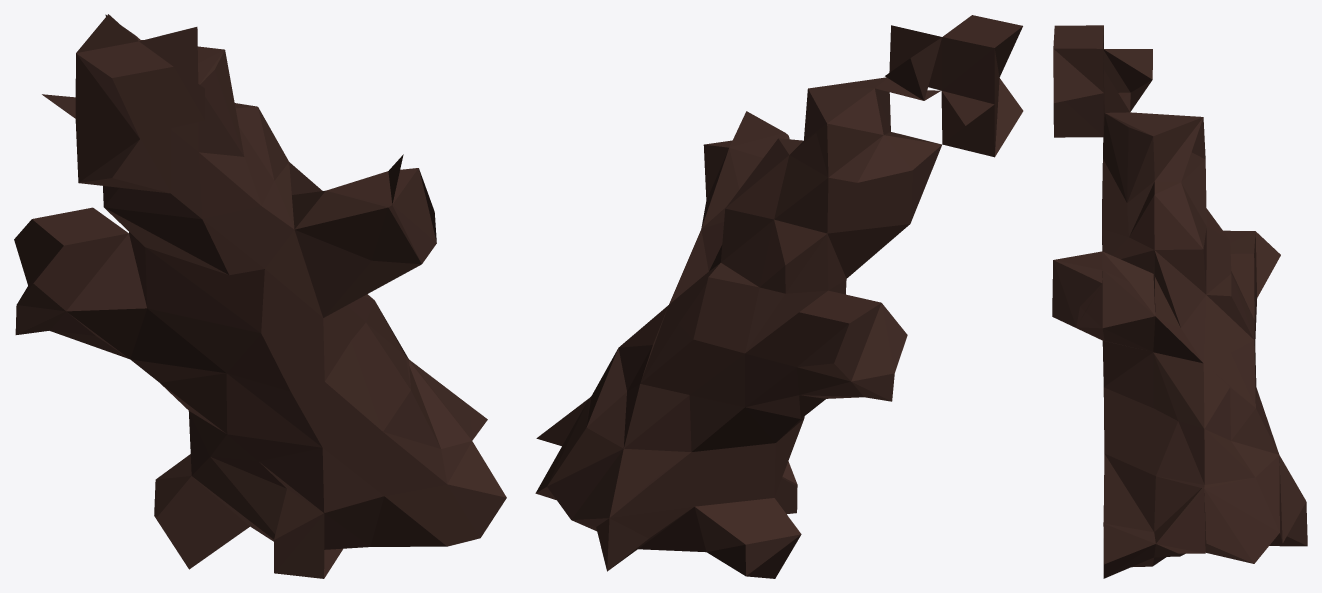
Rendered from leaning-trunk.glb.
3 renders of one model, left to right at view 1: azimuth 30°, elevation 25°; view 2: azimuth 150°, elevation 25°; view 3: azimuth 270°, elevation 25°, orthographic. The views are drawn at different scales.
Size of the model in its own units: 0.5211 by 0.6909 by 0.3496.
